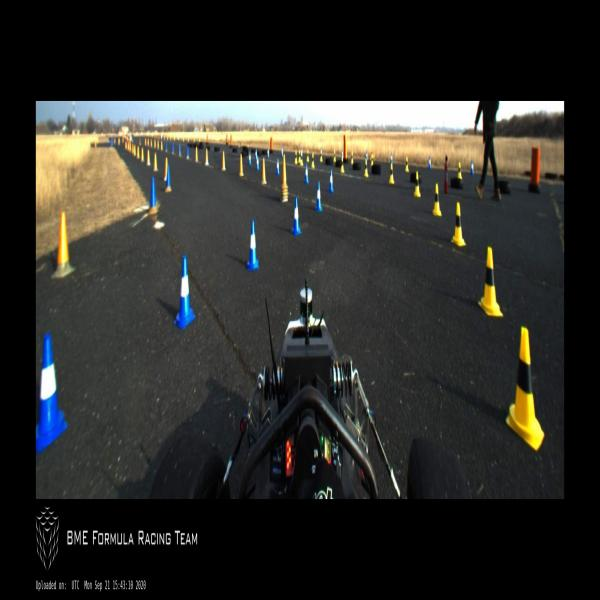blue_cone: (36, 332, 67, 456), (174, 255, 195, 329), (247, 219, 260, 270), (291, 196, 302, 235), (315, 180, 322, 212), (328, 169, 334, 192), (305, 162, 308, 184), (256, 154, 260, 170), (276, 159, 280, 174), (470, 160, 474, 175), (429, 154, 432, 170), (390, 151, 393, 163), (248, 153, 251, 164), (366, 150, 368, 162), (255, 147, 257, 159), (268, 146, 270, 158), (281, 146, 283, 157)
yellow_cone: (505, 328, 546, 451), (478, 247, 502, 315), (451, 201, 466, 246), (432, 182, 441, 216), (414, 170, 420, 196), (389, 164, 394, 183), (364, 160, 369, 178), (458, 161, 462, 179), (340, 156, 344, 173), (404, 156, 408, 173), (294, 149, 298, 164), (298, 149, 301, 164), (306, 149, 309, 163), (300, 152, 303, 165), (333, 151, 336, 162), (312, 152, 314, 168), (371, 153, 373, 167), (351, 152, 353, 164), (320, 150, 322, 162)
